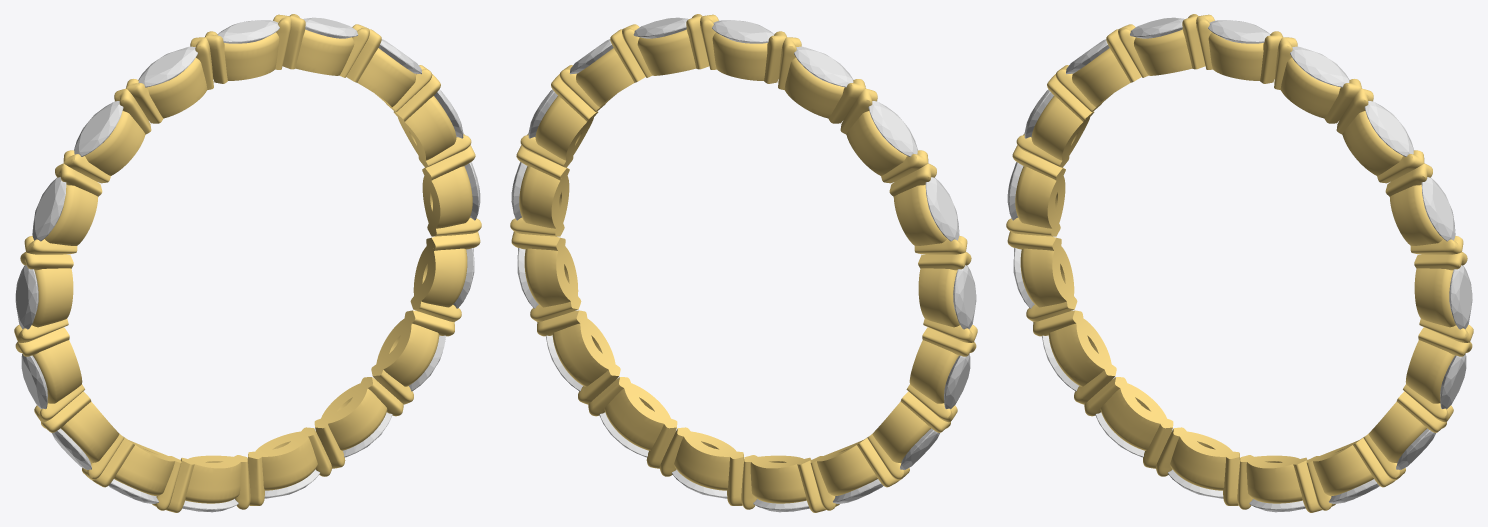
File: BrynneMarquisewbYG_blender.glb
3 renders of one model, left to right at view 1: azimuth 30°, elevation 25°; view 2: azimuth 150°, elevation 25°; view 3: azimuth 330°, elevation 25°, orthographic.
Parts seen in each view (by area): view 1: Brynne YG marquise wb for 3d model, Brynne dia marquise wb for 3d model.014, Brynne dia marquise wb for 3d model.013, Brynne dia marquise wb for 3d model.015, Brynne dia marquise wb for 3d model.012, Brynne dia marquise wb for 3d model.016, Brynne dia marquise wb for 3d model.011, Brynne dia marquise wb for 3d model, Brynne dia marquise wb for 3d model.010, Brynne dia marquise wb for 3d model.001; view 2: Brynne YG marquise wb for 3d model, Brynne dia marquise wb for 3d model.014, Brynne dia marquise wb for 3d model.013, Brynne dia marquise wb for 3d model.015, Brynne dia marquise wb for 3d model.012, Brynne dia marquise wb for 3d model.016, Brynne dia marquise wb for 3d model.011, Brynne dia marquise wb for 3d model, Brynne dia marquise wb for 3d model.010, Brynne dia marquise wb for 3d model.001; view 3: Brynne YG marquise wb for 3d model, Brynne dia marquise wb for 3d model.001, Brynne dia marquise wb for 3d model.002, Brynne dia marquise wb for 3d model, Brynne dia marquise wb for 3d model.003, Brynne dia marquise wb for 3d model.016, Brynne dia marquise wb for 3d model.004, Brynne dia marquise wb for 3d model.015, Brynne dia marquise wb for 3d model.005, Brynne dia marquise wb for 3d model.014.
Boxes of the visible parts, x1,y1,x2,y2 form: Brynne YG marquise wb for 3d model: [14, 14, 481, 512]; Brynne dia marquise wb for 3d model.014: [74, 101, 123, 156]; Brynne dia marquise wb for 3d model.013: [32, 177, 66, 241]; Brynne dia marquise wb for 3d model.015: [138, 46, 197, 87]; Brynne dia marquise wb for 3d model.012: [15, 265, 38, 329]; Brynne dia marquise wb for 3d model.016: [217, 20, 279, 43]; Brynne dia marquise wb for 3d model.011: [21, 354, 47, 409]; Brynne dia marquise wb for 3d model: [303, 17, 358, 38]; Brynne dia marquise wb for 3d model.010: [52, 428, 91, 469]; Brynne dia marquise wb for 3d model.001: [378, 39, 421, 74]; Brynne YG marquise wb for 3d model: [510, 14, 977, 512]; Brynne dia marquise wb for 3d model.014: [868, 101, 917, 156]; Brynne dia marquise wb for 3d model.013: [925, 177, 959, 241]; Brynne dia marquise wb for 3d model.015: [794, 46, 853, 87]; Brynne dia marquise wb for 3d model.012: [953, 265, 976, 329]; Brynne dia marquise wb for 3d model.016: [712, 20, 773, 43]; Brynne dia marquise wb for 3d model.011: [944, 354, 970, 409]; Brynne dia marquise wb for 3d model: [633, 17, 688, 38]; Brynne dia marquise wb for 3d model.010: [900, 428, 939, 469]; Brynne dia marquise wb for 3d model.001: [569, 39, 613, 74]; Brynne YG marquise wb for 3d model: [1006, 14, 1473, 512]; Brynne dia marquise wb for 3d model.001: [1364, 101, 1413, 156]; Brynne dia marquise wb for 3d model.002: [1421, 177, 1455, 241]; Brynne dia marquise wb for 3d model: [1290, 46, 1349, 87]; Brynne dia marquise wb for 3d model.003: [1449, 265, 1472, 329]; Brynne dia marquise wb for 3d model.016: [1208, 20, 1270, 43]; Brynne dia marquise wb for 3d model.004: [1440, 353, 1466, 409]; Brynne dia marquise wb for 3d model.015: [1130, 17, 1184, 38]; Brynne dia marquise wb for 3d model.005: [1396, 428, 1435, 469]; Brynne dia marquise wb for 3d model.014: [1066, 39, 1109, 74].
Bounding box in the file's own units: 20.36 × 20.28 × 1.5.
